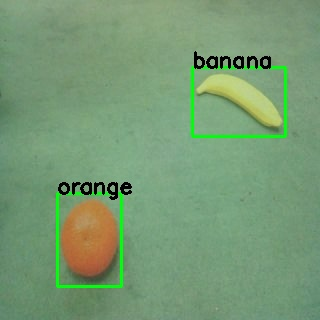banana: (190, 66, 293, 137)
orange: (56, 197, 122, 281)
